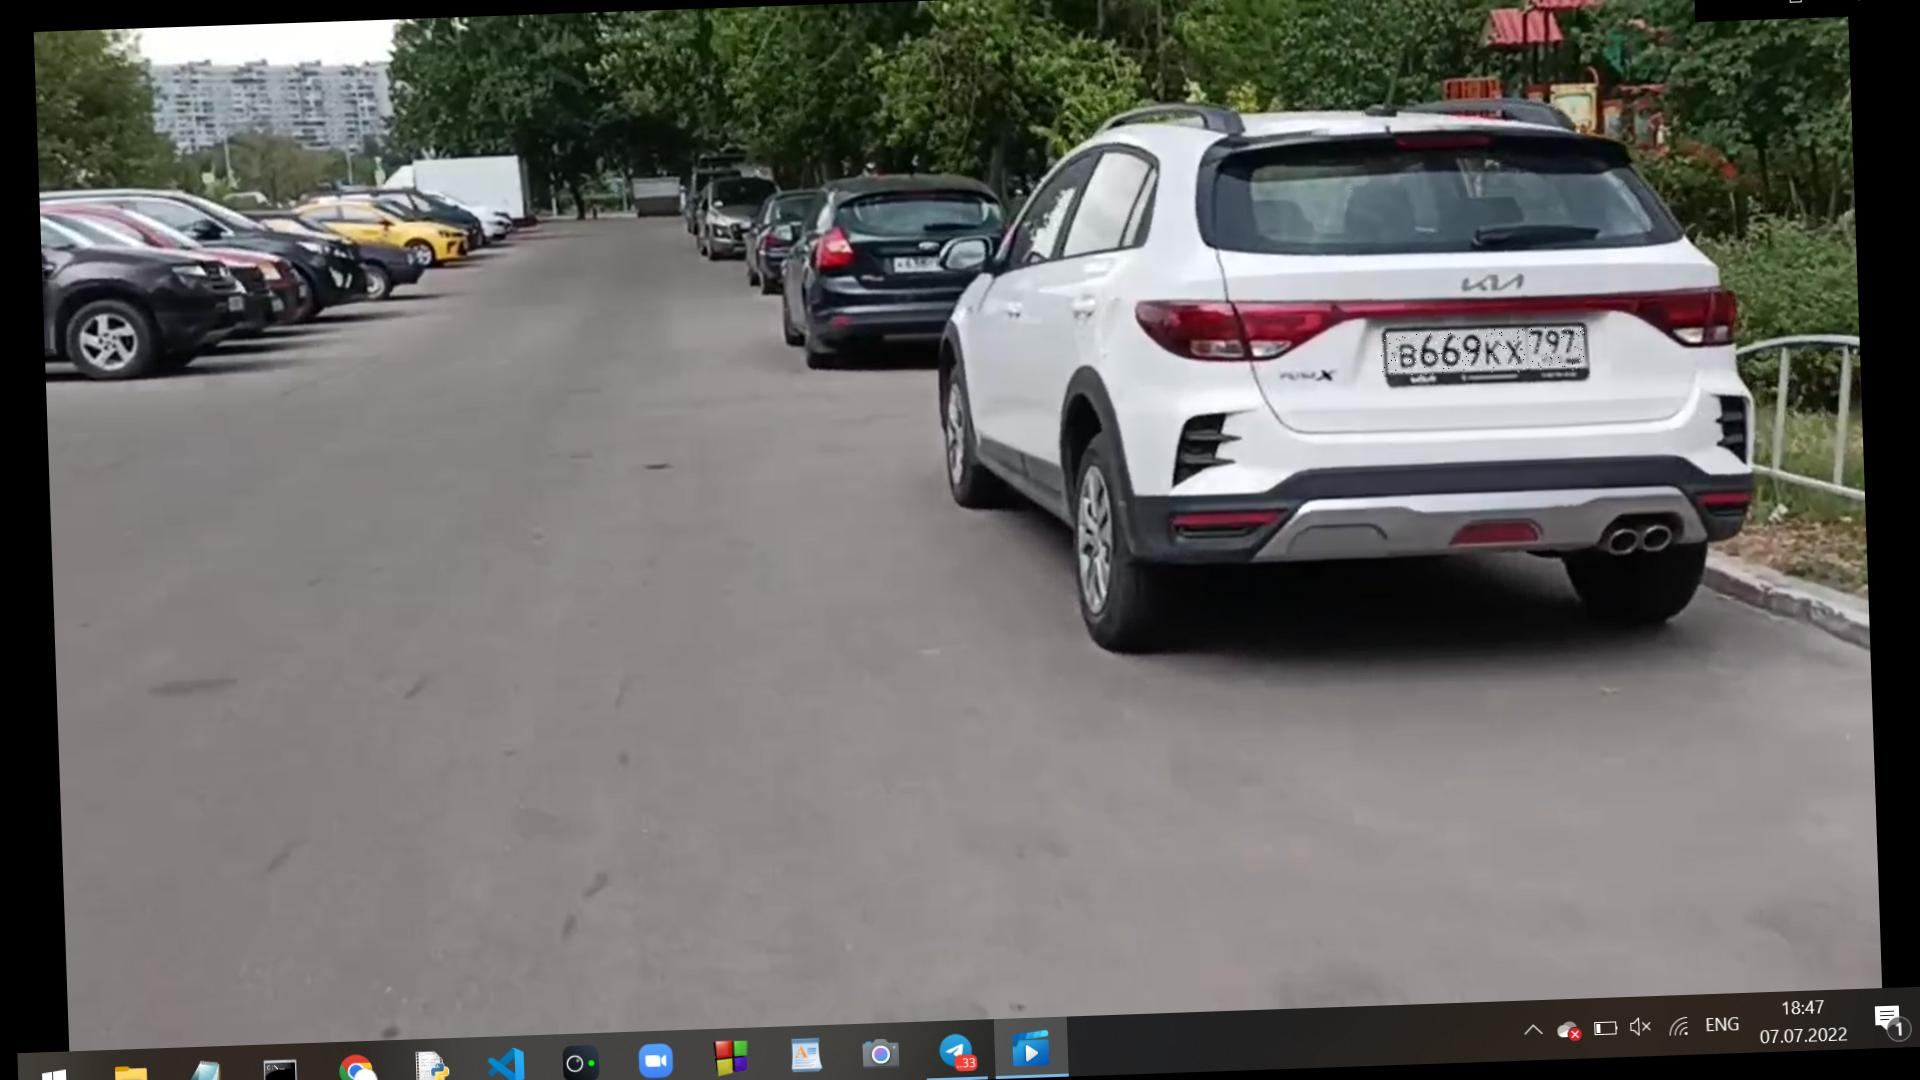plate: (1382, 328, 1589, 379)
